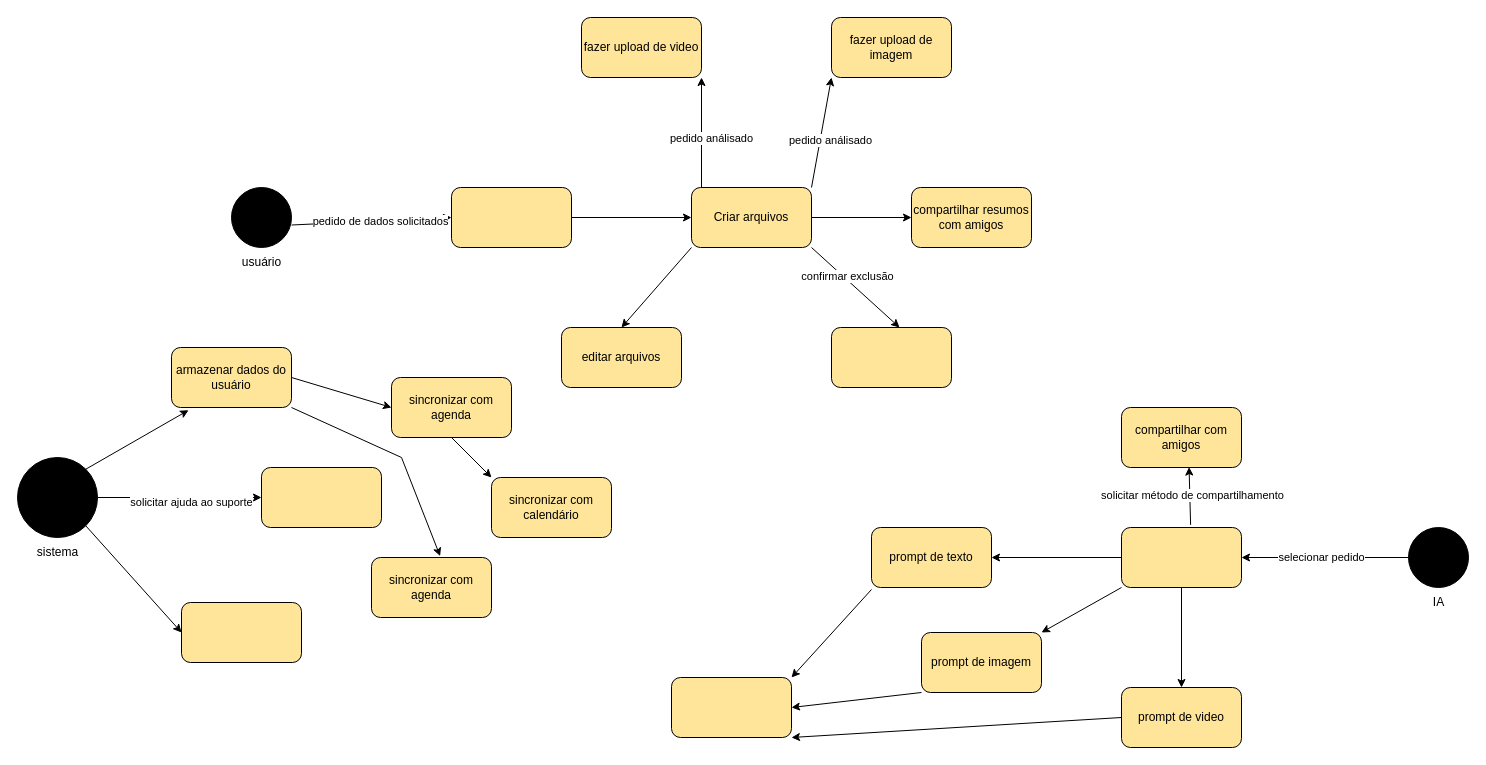
This 1486x765 diagram has some shape labels left out. The box of each missing label's shape, as (x1, y1, x2, y2) in pixels:
criar arquivo: (670, 676, 792, 738)
Criar conta: (450, 186, 572, 248)
excluir arquivos: (830, 326, 952, 388)
funcionalidade da IA: (180, 602, 302, 662)
selecionar tipos de resumos: (1120, 526, 1242, 588)
suporte técnico: (260, 466, 382, 528)
